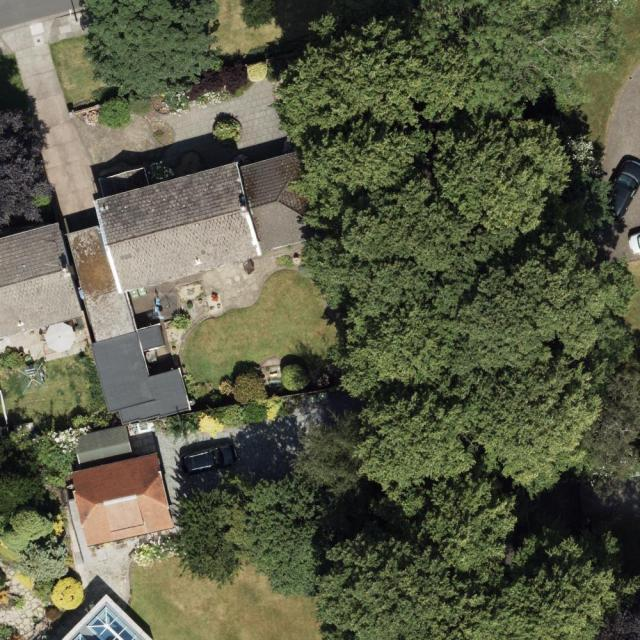roof: (66, 152, 323, 423), (70, 424, 174, 547), (0, 222, 83, 337), (60, 596, 157, 640)
skylight: (87, 606, 141, 640), (72, 633, 87, 640)
